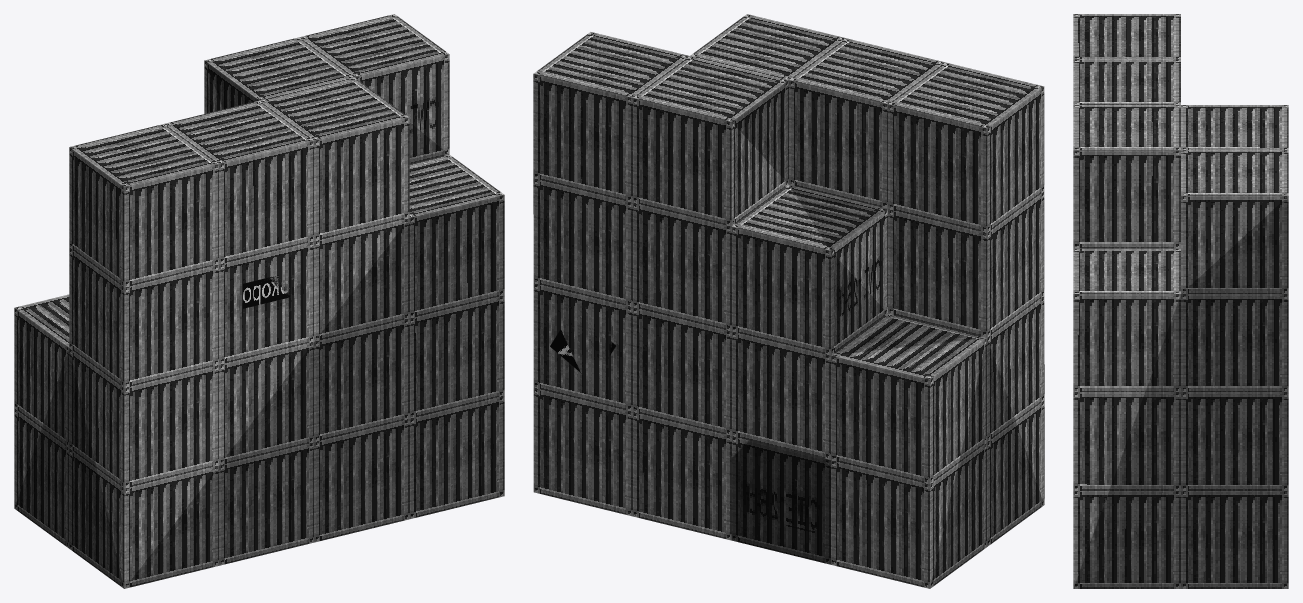
Rendered from primary_089.glb.
3 renders of one model, left to right at view 1: azimuth 30°, elevation 25°; view 2: azimuth 150°, elevation 25°; view 3: azimuth 270°, elevation 25°, orthographic. The views are drawn at different scales.
Visible parts, largest first — view 1: Object; view 2: Object; view 3: Object.
Boxes of the visible parts, <box> form: Object: <box>14,14,504,588</box>; Object: <box>533,14,1044,588</box>; Object: <box>1073,14,1288,588</box>.
Size of the model in its own units: 5.8 by 5.85 by 2.9.
Materials: 8 (8 with a texture image).
